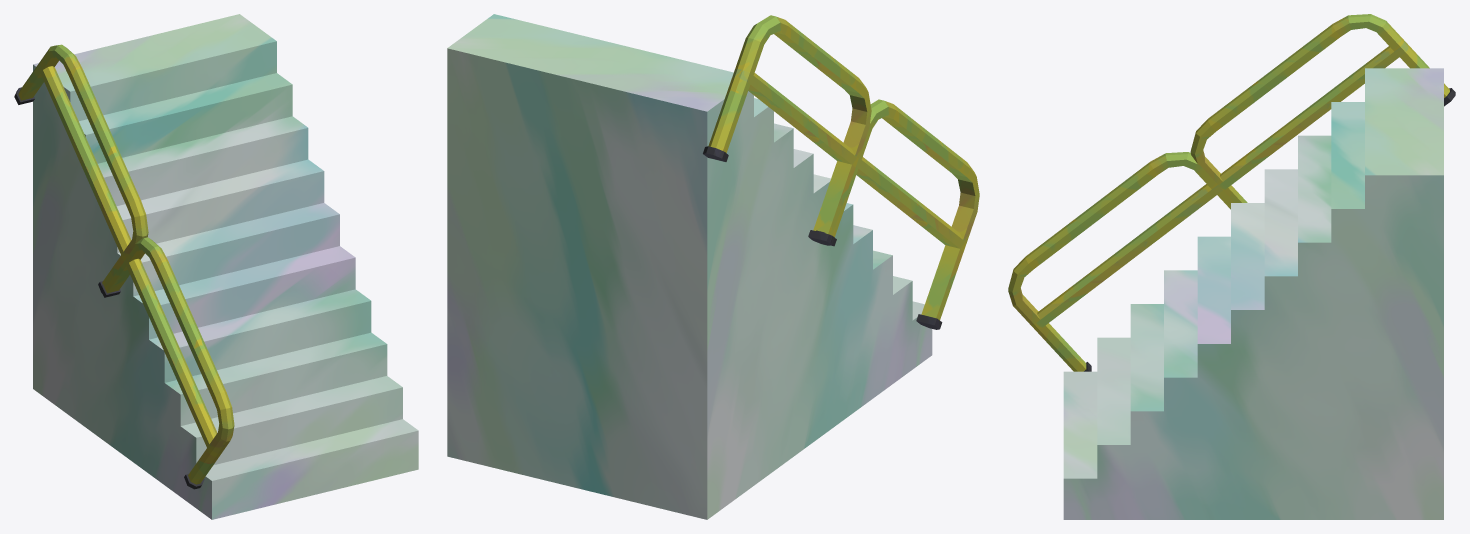
The model's file is Stairs_Three_Rail.glb.
The picture shows the model from 3 angles, left to right: view 1: azimuth 30°, elevation 25°; view 2: azimuth 150°, elevation 25°; view 3: azimuth 270°, elevation 25°; orthographic projection. The views are drawn at different scales.
Visible parts, largest first — view 1: Stairs_Three_Rail; view 2: Stairs_Three_Rail; view 3: Stairs_Three_Rail.
Part boxes in pixels (<box>): Stairs_Three_Rail: <box>14,14,418,519</box>; Stairs_Three_Rail: <box>447,14,979,519</box>; Stairs_Three_Rail: <box>1008,14,1455,519</box>.
Bounding box in the file's own units: 2.15 × 3.43 × 3.53.
2 materials, 2 textured.
